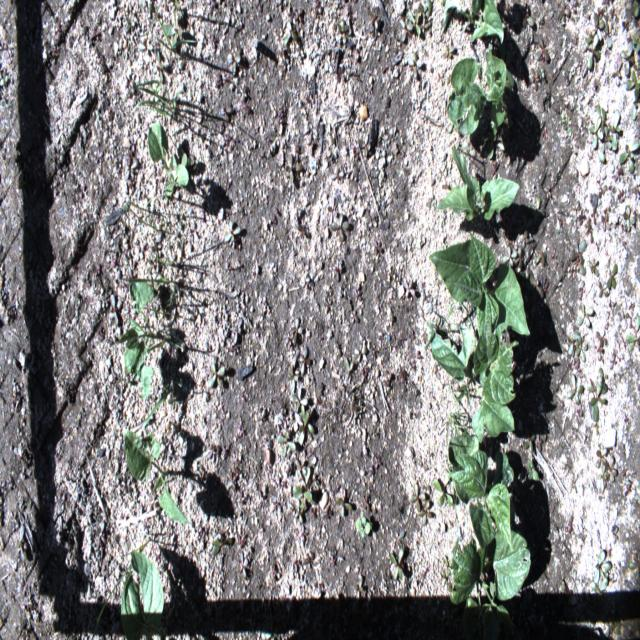crop: (424, 320, 520, 444), (429, 231, 529, 346), (450, 526, 531, 639), (448, 430, 514, 552), (122, 425, 190, 524), (435, 145, 520, 222), (118, 280, 172, 398), (446, 50, 507, 136), (122, 553, 166, 639), (147, 121, 189, 196), (440, 0, 504, 45)
weed: (91, 538, 150, 639), (133, 68, 188, 134), (119, 195, 167, 242), (140, 386, 175, 434), (154, 18, 198, 51), (446, 390, 469, 450), (490, 71, 514, 128), (444, 304, 476, 343), (292, 401, 316, 446), (151, 218, 171, 266), (431, 475, 454, 507), (142, 1, 163, 36), (589, 379, 606, 421), (164, 14, 182, 52), (568, 240, 588, 274), (586, 31, 601, 73), (211, 532, 234, 558), (285, 152, 303, 185), (587, 116, 604, 150), (566, 372, 584, 404), (618, 138, 640, 164), (172, 141, 192, 169), (484, 120, 498, 160), (608, 109, 622, 148), (277, 429, 295, 459), (557, 577, 577, 604), (14, 523, 28, 561), (621, 38, 635, 76), (388, 548, 404, 581), (123, 150, 139, 182), (332, 212, 349, 242), (120, 274, 170, 284), (293, 485, 312, 511), (207, 363, 225, 390), (409, 484, 426, 512), (282, 20, 298, 49), (534, 35, 550, 63), (628, 314, 640, 351), (109, 292, 122, 325), (227, 46, 241, 76), (407, 50, 422, 78), (600, 124, 614, 154), (594, 548, 606, 583), (335, 496, 354, 518), (152, 52, 165, 84), (528, 273, 544, 299), (578, 301, 594, 327), (354, 515, 371, 539), (590, 12, 604, 41), (604, 455, 618, 484), (292, 387, 308, 412), (168, 0, 187, 21), (289, 317, 303, 345), (406, 10, 420, 38), (416, 501, 432, 525), (522, 3, 537, 28), (502, 244, 517, 269), (163, 285, 179, 308), (224, 219, 240, 242), (521, 426, 535, 452), (590, 578, 608, 598), (622, 205, 634, 234), (566, 328, 578, 357), (576, 333, 588, 362), (597, 102, 607, 136), (606, 264, 618, 291), (530, 194, 544, 217), (132, 307, 172, 315), (596, 465, 607, 494), (298, 348, 310, 374), (519, 268, 532, 292), (602, 17, 612, 48), (594, 446, 608, 468), (632, 82, 640, 120), (231, 318, 243, 343), (338, 20, 350, 45), (443, 555, 456, 578), (288, 363, 298, 392), (354, 574, 364, 603), (629, 553, 639, 582), (167, 390, 180, 412), (568, 568, 579, 594), (556, 7, 570, 27), (625, 71, 639, 91), (598, 366, 608, 394), (358, 134, 370, 156), (526, 458, 538, 480), (238, 550, 247, 579), (424, 1, 433, 30), (344, 356, 354, 382), (124, 13, 136, 34), (151, 241, 163, 262), (585, 217, 594, 245), (596, 328, 608, 349), (418, 0, 428, 25), (147, 252, 159, 272), (294, 456, 306, 476), (612, 62, 621, 88), (404, 277, 415, 298), (588, 256, 599, 277), (530, 68, 540, 91), (300, 466, 311, 486), (598, 279, 610, 297), (573, 198, 582, 222), (331, 168, 344, 184), (333, 258, 342, 281), (151, 262, 162, 280), (142, 0, 156, 14), (533, 252, 546, 267), (583, 37, 596, 52), (600, 212, 610, 231), (598, 566, 608, 585), (514, 247, 522, 270), (173, 334, 186, 348), (174, 218, 183, 238), (605, 617, 614, 636), (594, 344, 603, 362), (521, 228, 529, 248), (600, 560, 614, 571), (632, 34, 640, 53), (598, 145, 606, 164), (294, 508, 303, 524), (288, 502, 296, 520), (577, 280, 585, 298), (598, 184, 608, 198), (156, 215, 162, 238), (448, 580, 456, 596), (613, 526, 620, 544), (444, 44, 453, 57), (138, 43, 154, 50), (628, 158, 636, 172), (609, 353, 616, 369), (625, 335, 639, 342), (632, 2, 638, 18), (175, 377, 183, 387)
